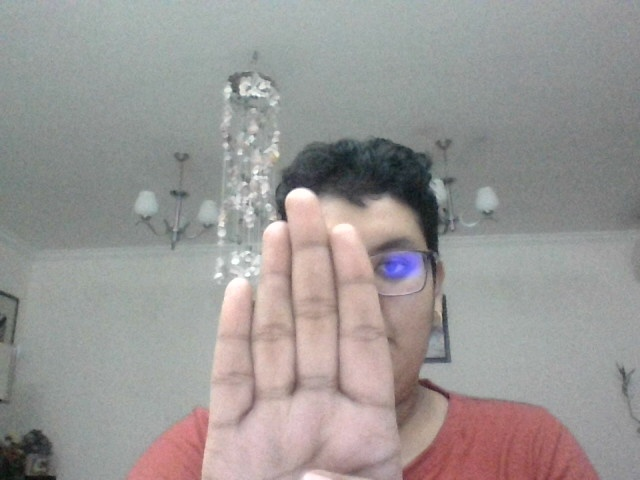b: (195, 176, 404, 480)
